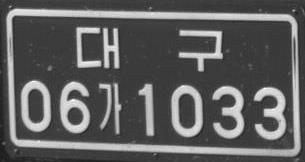0: (170, 83, 203, 138), (20, 78, 51, 132)
1: (132, 83, 162, 136)
3: (212, 84, 245, 140), (253, 86, 287, 140)
6: (58, 80, 90, 133)
가: (97, 82, 123, 134)
대구_D: (75, 26, 223, 73)
